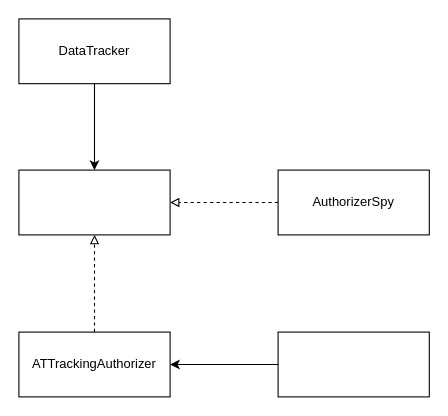
Some shapes in this 448 by 416 pixel diagram are drawn without their labels. Here are the shapes that lost their labels. From the top down, the centre of each, then its label:
the point at 94,202: <<Authorizer>>
the point at 353,364: ATTrackingManager iOS SDK
